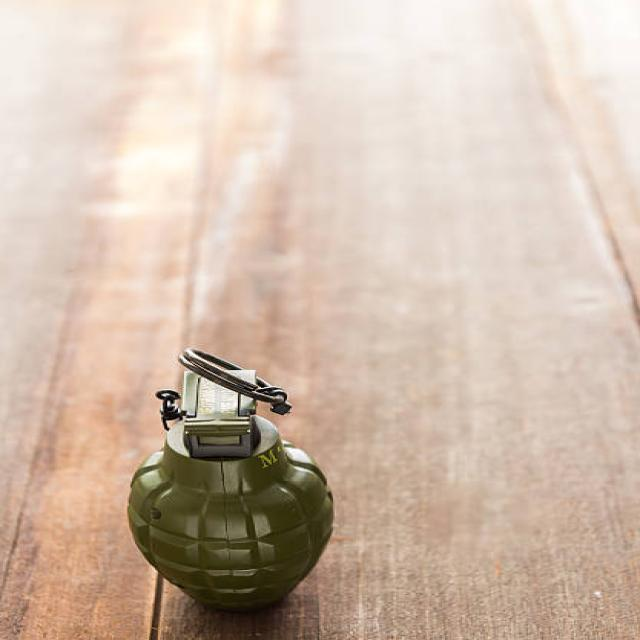grenade: (116, 348, 346, 614)
